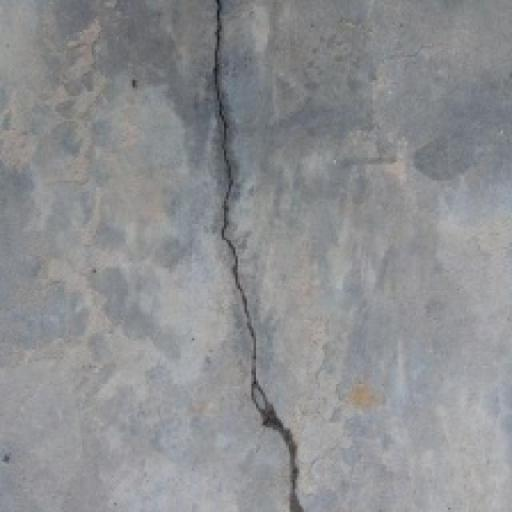moderate crack: (355, 0, 394, 475), (259, 406, 309, 508), (256, 0, 294, 99), (75, 180, 107, 242), (331, 146, 398, 169)
severe crack: (0, 1, 228, 377), (201, 10, 317, 502), (0, 342, 150, 512), (209, 0, 231, 202), (216, 173, 261, 247), (246, 371, 284, 423), (217, 1, 259, 25), (305, 448, 327, 470)
